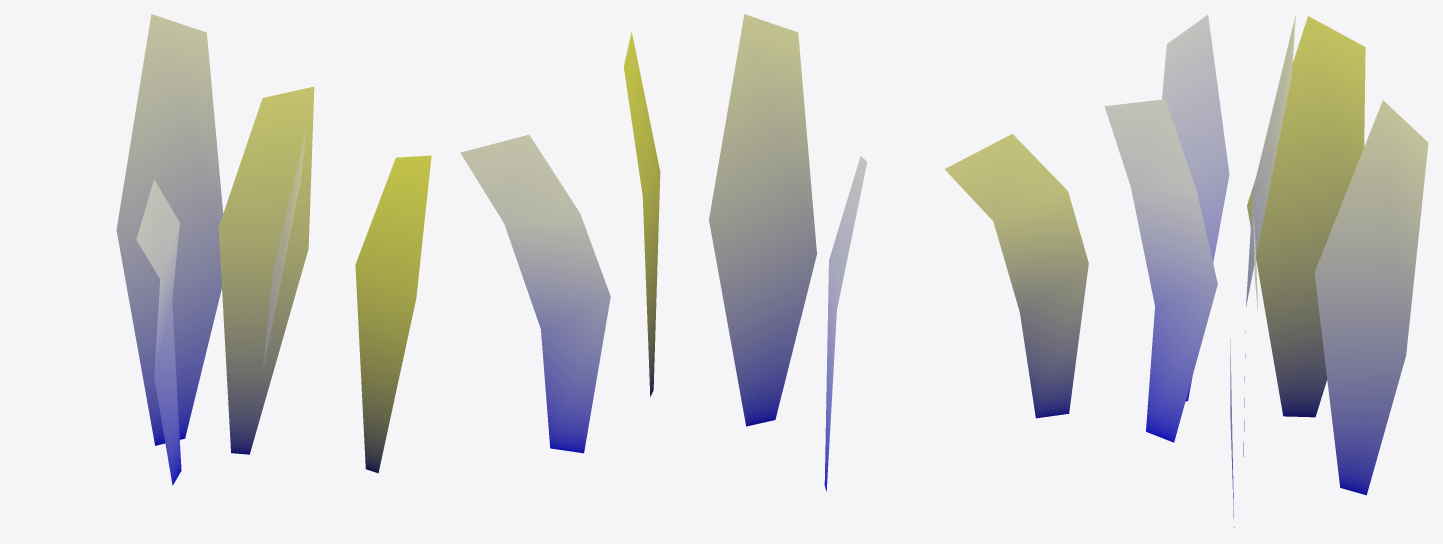
The picture shows the model from 3 angles, left to right: view 1: azimuth 30°, elevation 25°; view 2: azimuth 150°, elevation 25°; view 3: azimuth 270°, elevation 25°; orthographic projection. The views are drawn at different scales.
Parts seen in each view (by area): view 1: Grass_3; view 2: Grass_3; view 3: Grass_3.
Boxes of the visible parts, <box> form: Grass_3: <box>116,14,431,485</box>; Grass_3: <box>460,14,867,491</box>; Grass_3: <box>944,14,1428,527</box>.
Bounding box in the file's own units: 0.8628 × 0.9239 × 0.9133.
